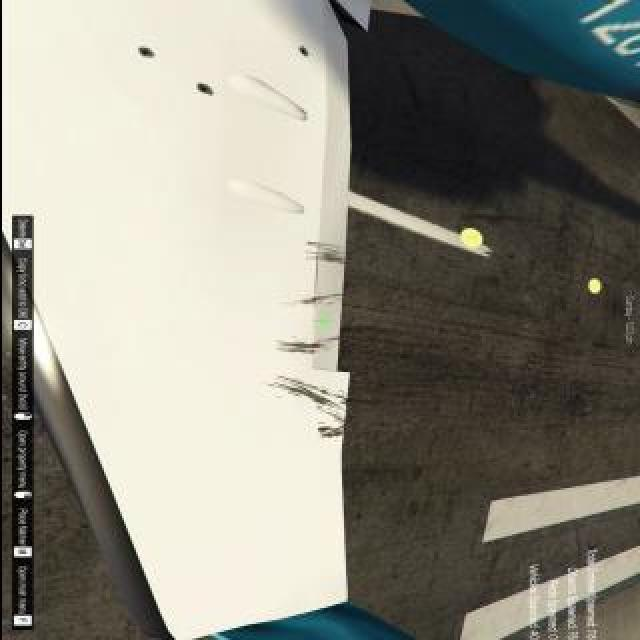crack: (190, 82, 214, 98), (134, 46, 154, 60), (296, 47, 310, 59)
dent: (273, 378, 337, 403), (306, 243, 342, 266), (289, 294, 346, 305), (279, 345, 318, 354), (315, 430, 340, 437)
